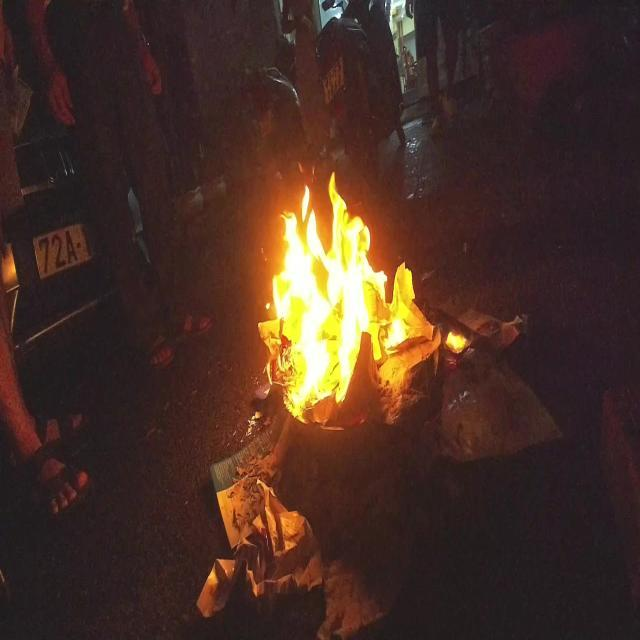Fire: (260, 172, 408, 418), (444, 332, 468, 354)
